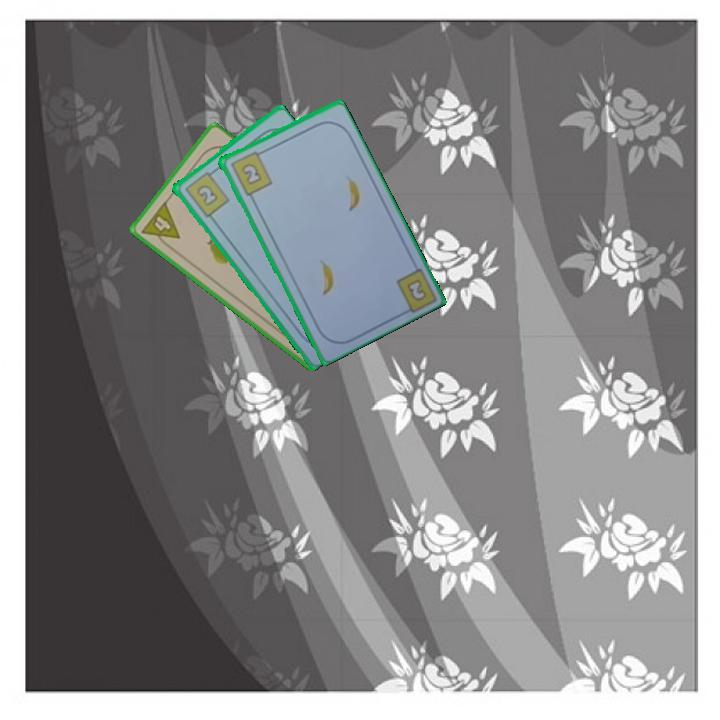2b: (181, 166, 232, 220), (226, 147, 275, 198), (405, 278, 427, 302)
4p: (138, 198, 183, 252)
